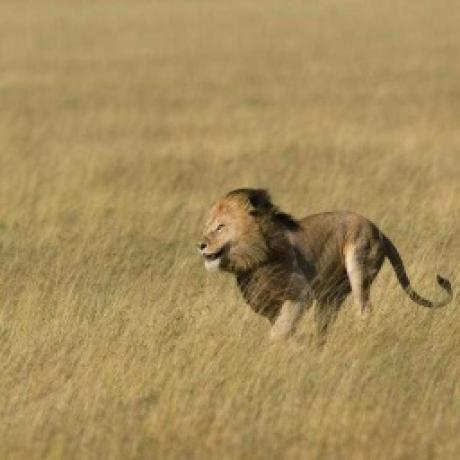Lion: (198, 187, 458, 334)
